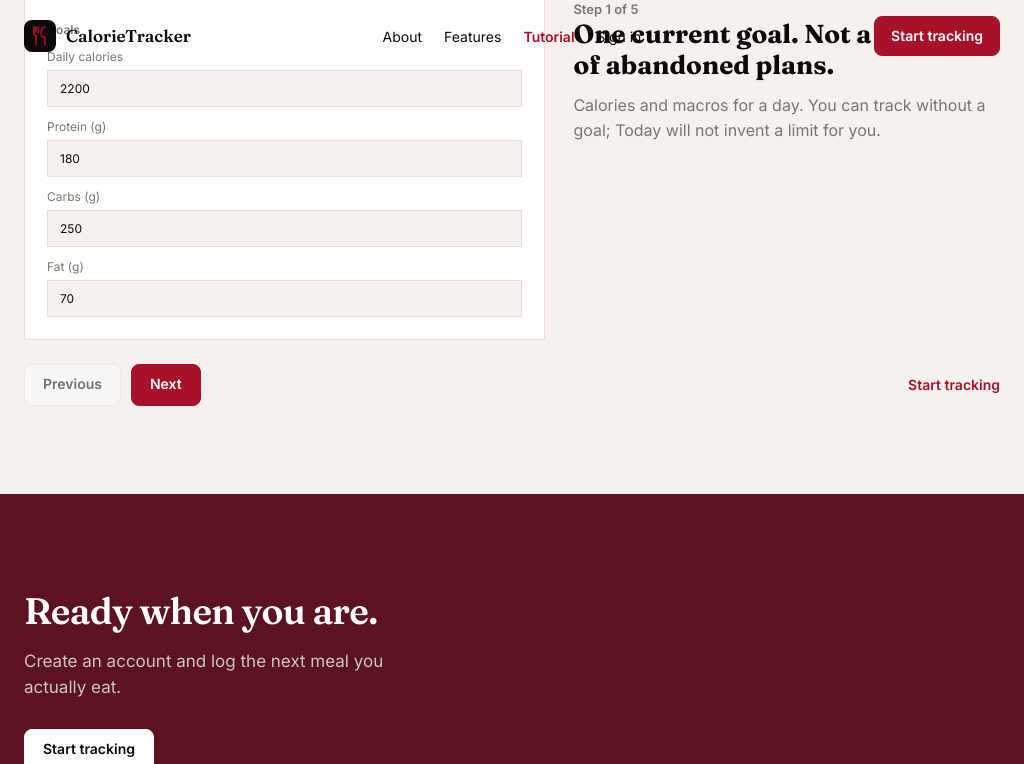
Test: public landing and first sitting › walks the tutorial page with next
The width and height of the screenshot is (1024, 764).
(page scrolled)
What coordinates should you click on to do the following:
click the button "Next"
I would click on:
 (166, 385)
Its box is x1=131 y1=364 x2=201 y2=406.
(page scrolled)
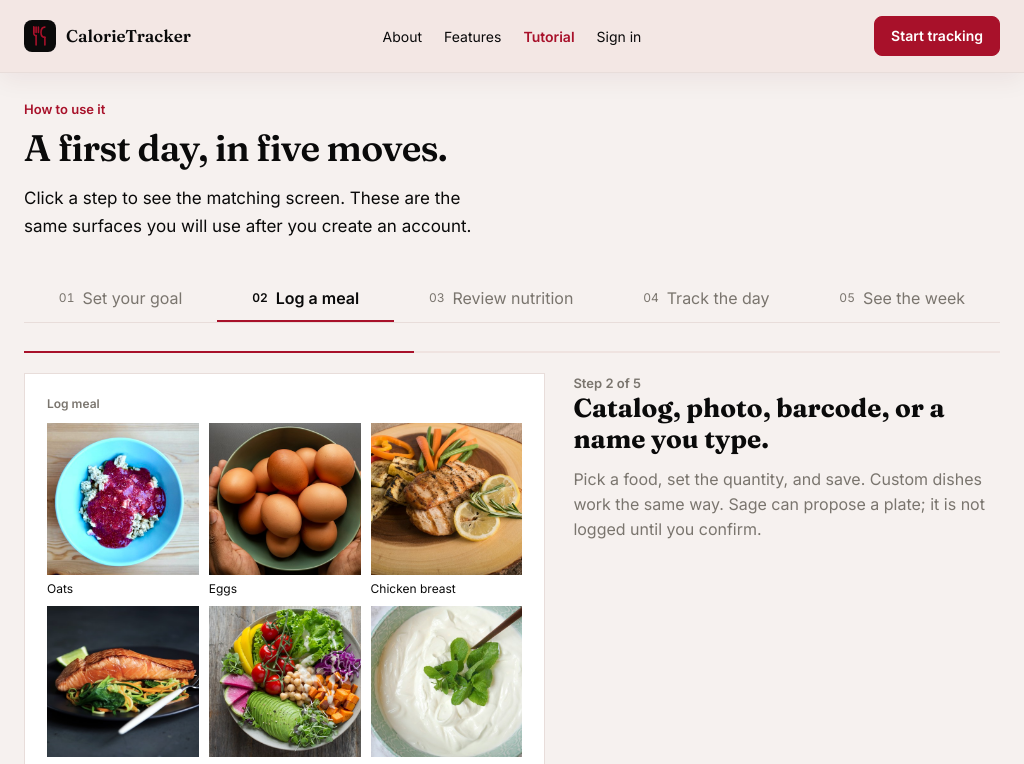
Result: the heading "Catalog, photo, barcode, or a name you type." is shown at x1=573 y1=393 x2=1000 y2=455
What coordinates should you click on to do the following:
click the tab "03 Review nutrition"
I would click on:
 (501, 299)
Its box is x1=394 y1=276 x2=608 y2=322.
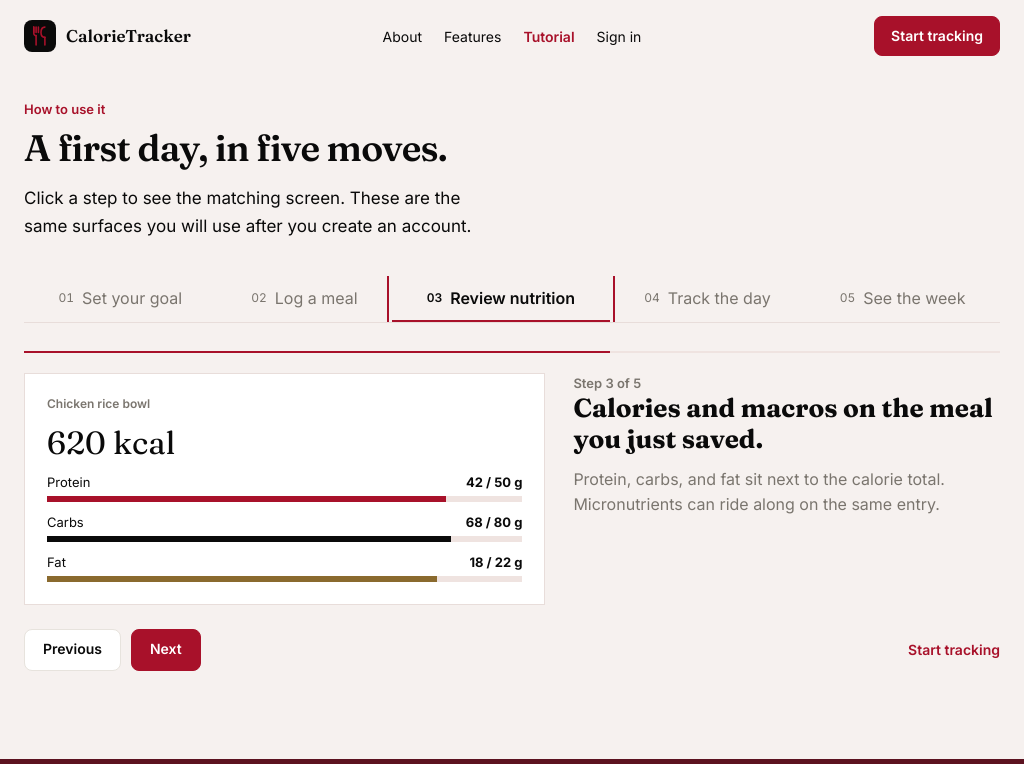
Result: the heading "Calories and macros on the meal you just saved." is shown at x1=573 y1=393 x2=1000 y2=455
